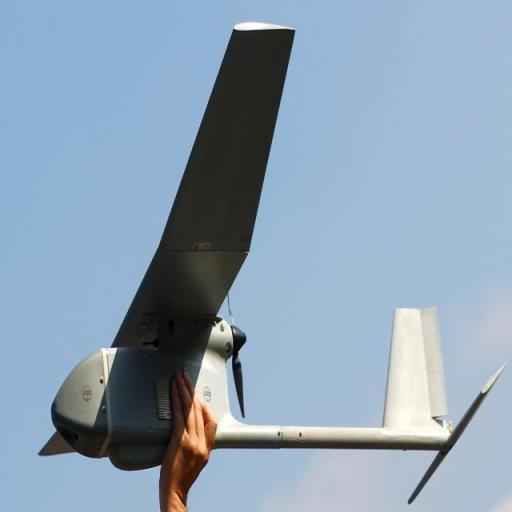uav: (7, 14, 506, 490)
